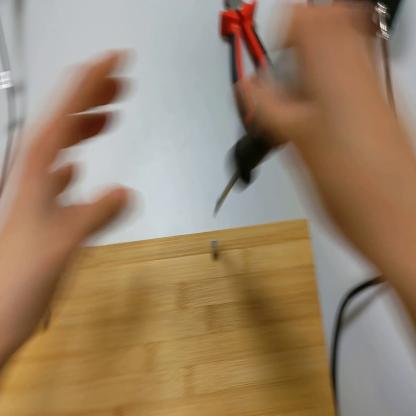hand: (234, 4, 408, 253), (2, 50, 132, 359)
pliers: (219, 3, 278, 132)
screwdriver-: (215, 45, 299, 215)
welder station: (348, 1, 404, 39)
working area: (1, 217, 331, 416)
